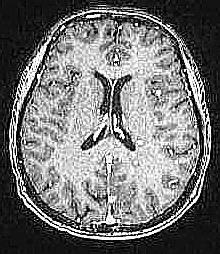Normal_Brain: (1, 1, 220, 254)
